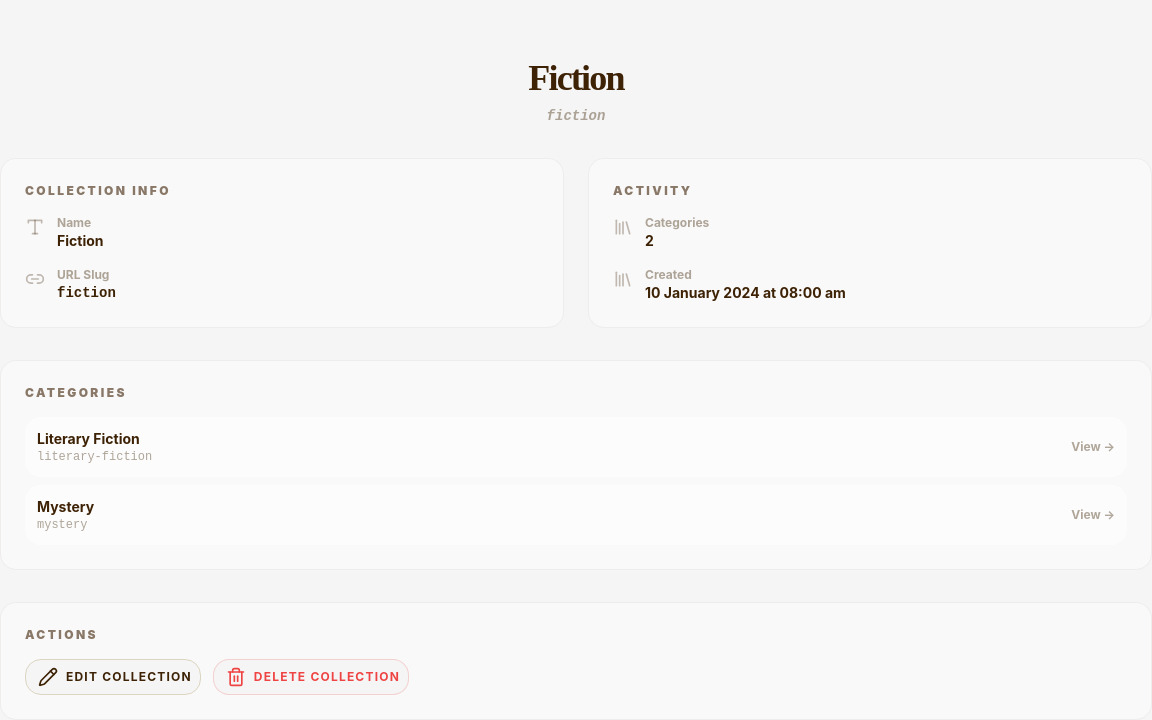
Test: CollectionDetailPage › shows slug input in edit dialog
The width and height of the screenshot is (1152, 720).
(page scrolled)
Click the button "Edit Collection".
click(113, 677)  # box [25,659,201,695]
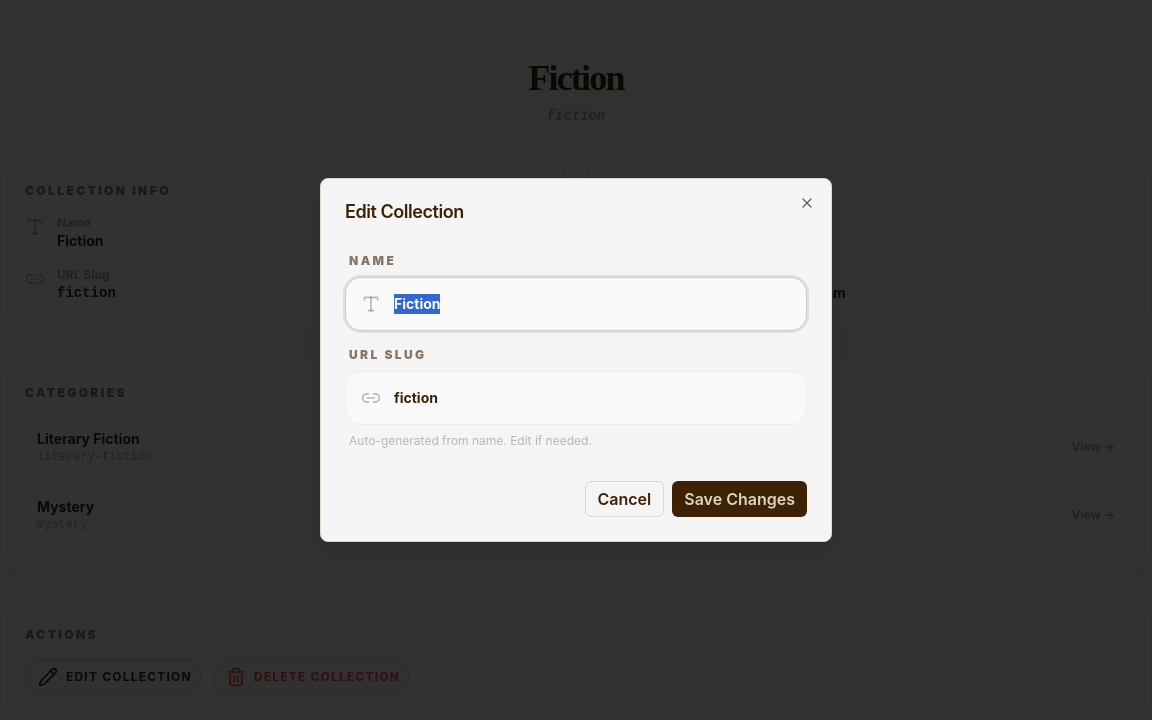
Now the dialog is shown, box [320,178,832,542]
Now the 2nd field showing "fiction" is shown, box [345,371,807,425]
